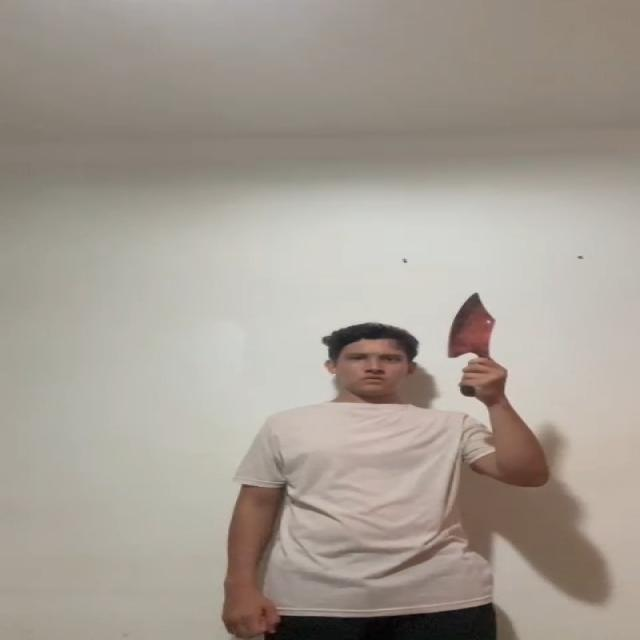knife: (444, 296, 498, 354)
